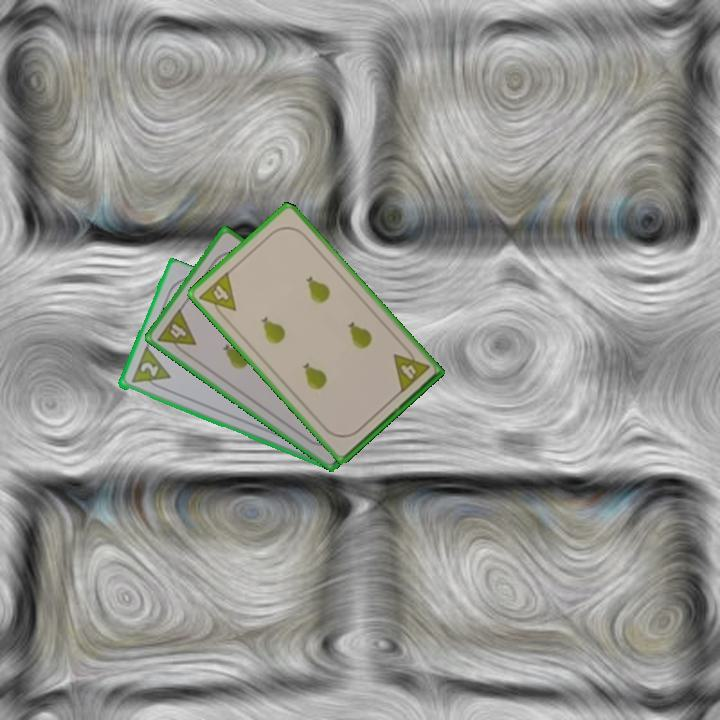2p: (136, 358, 161, 380)
4p: (153, 305, 199, 359), (195, 268, 239, 323), (389, 343, 433, 396)
